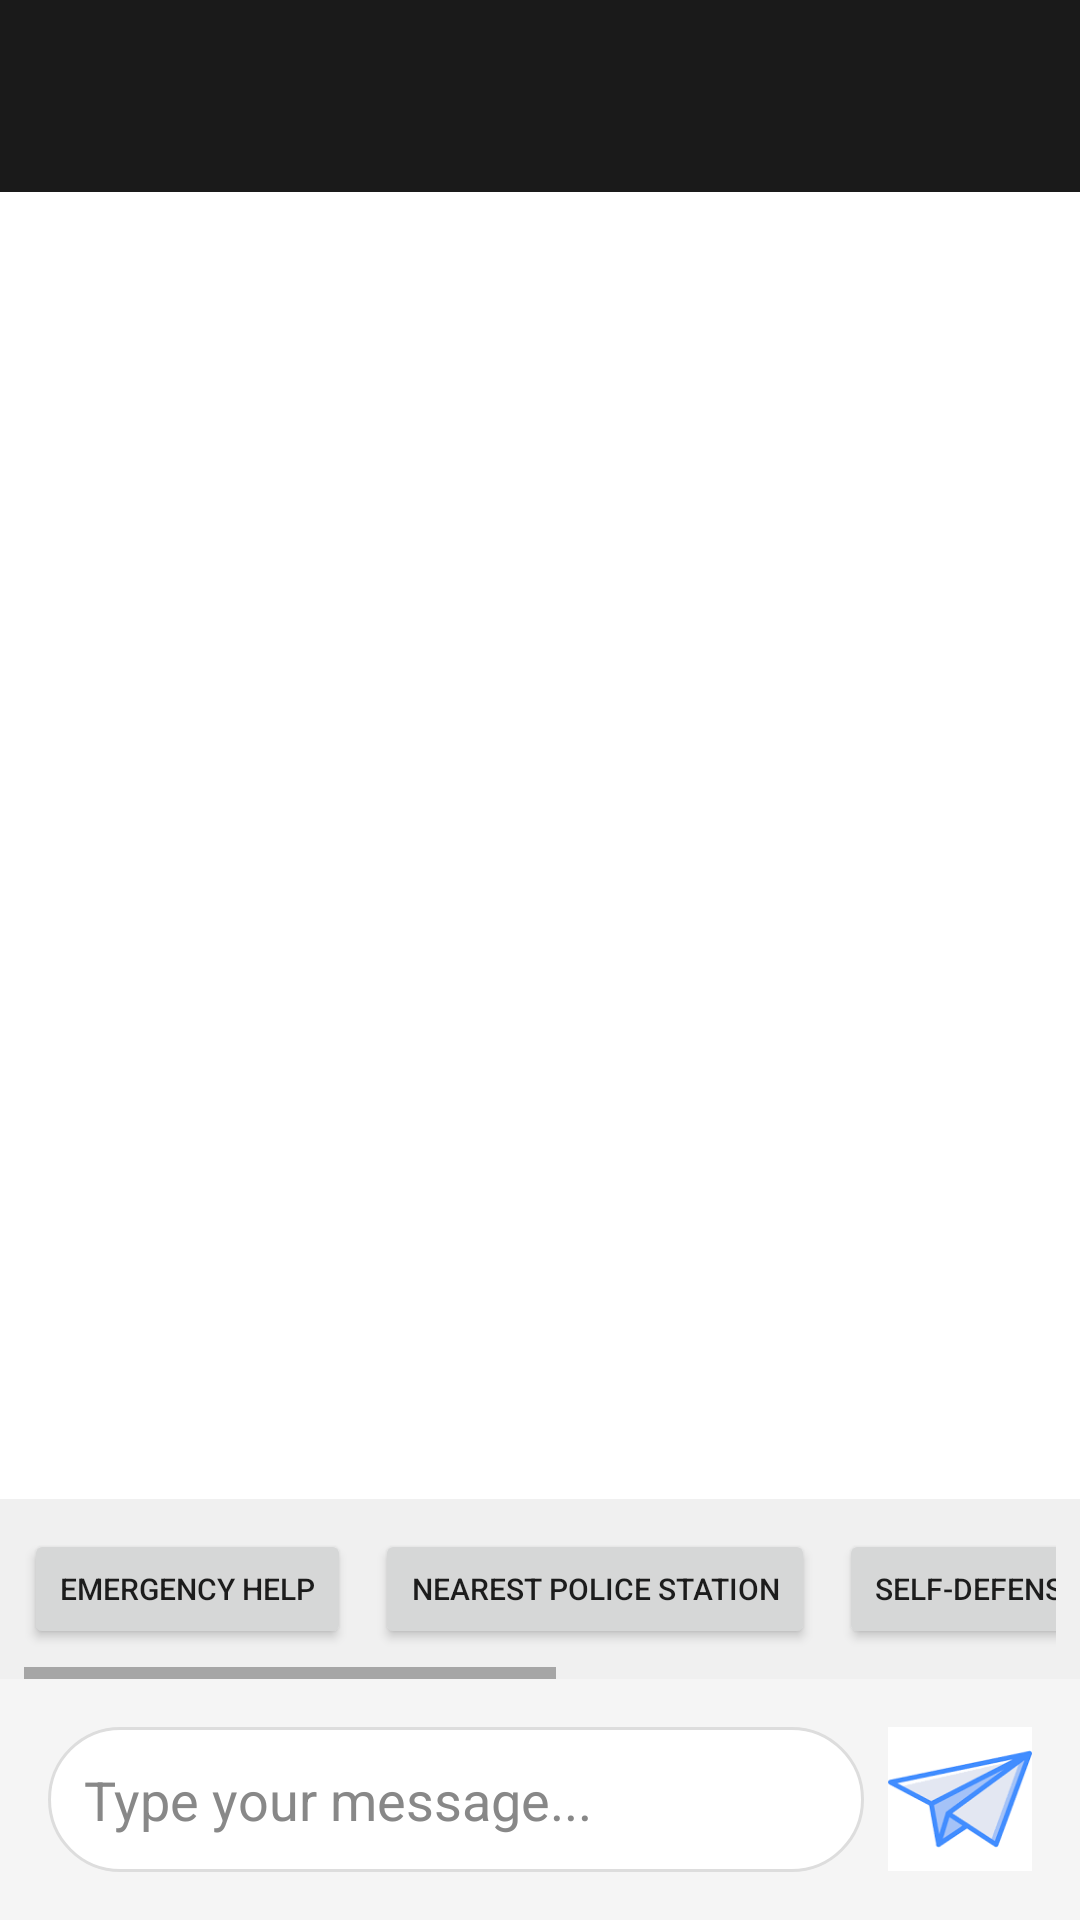

Where to tap for icons on this 1080 x 1920 app screen, as point (x, y):
Send message: point (960, 1799)
